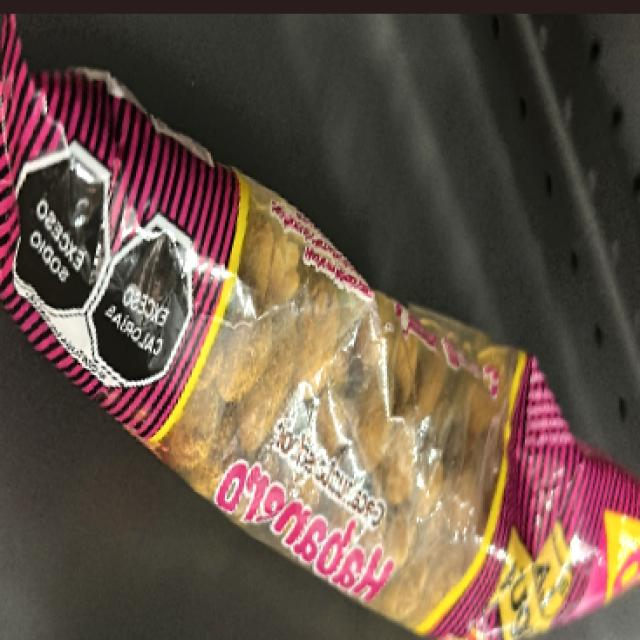bitzHabanero: (21, 73, 613, 622)
